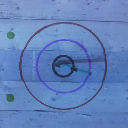Axe Tip: (59, 61, 71, 64)
